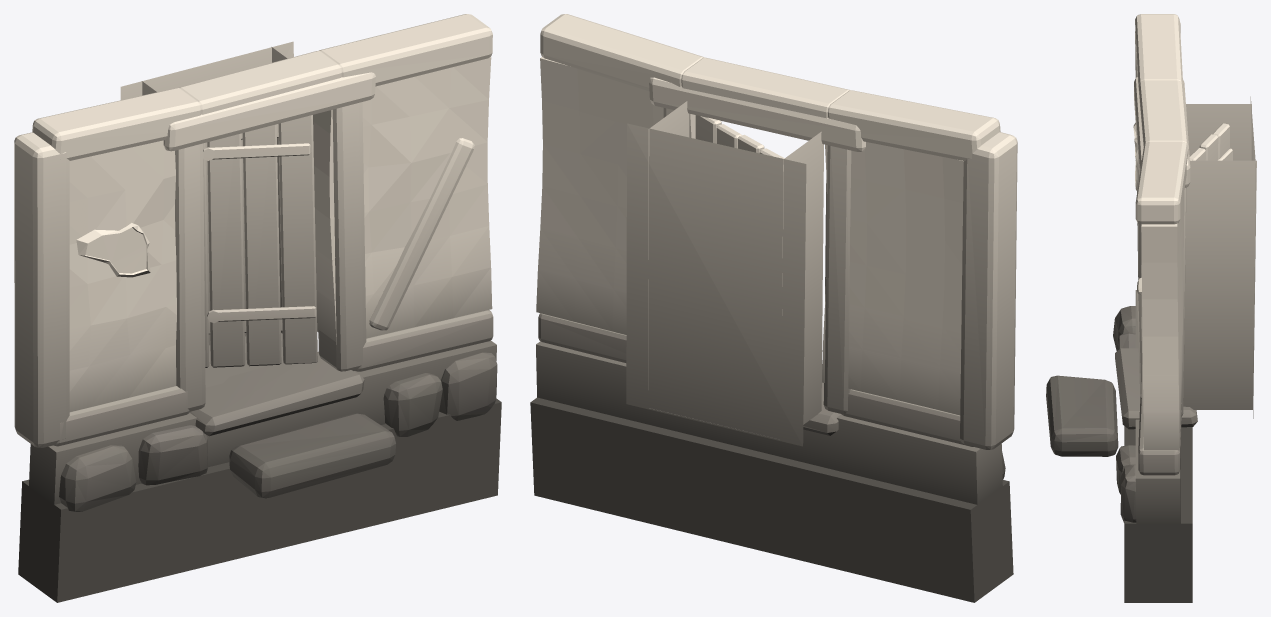
File: SM_VK_Wall_Wattle_Door.fbx
3 views of the same model, side by side, from view 1: azimuth 30°, elevation 25°; view 2: azimuth 150°, elevation 25°; view 3: azimuth 270°, elevation 25° (orthographic). The views are drawn at different scales.
Parts seen in each view (by area): view 1: SM_VK_Wall_Wattle_Door.001; view 2: SM_VK_Wall_Wattle_Door.001; view 3: SM_VK_Wall_Wattle_Door.001.
Boxes of the visible parts, bbox=[...] form: SM_VK_Wall_Wattle_Door.001: bbox=[14, 14, 501, 602]; SM_VK_Wall_Wattle_Door.001: bbox=[530, 14, 1017, 602]; SM_VK_Wall_Wattle_Door.001: bbox=[1046, 14, 1256, 602].
Size of the model in its own units: 3.13 by 3 by 1.42.
